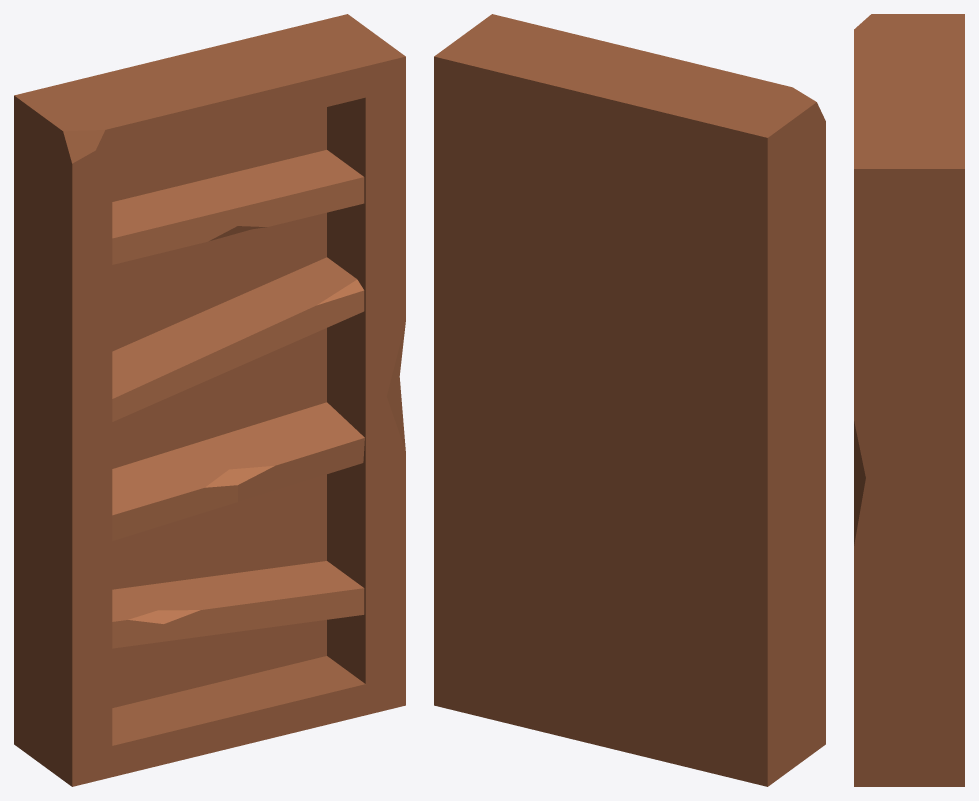
Rendered from bookshelf_broken.glb.
The picture shows the model from 3 angles, left to right: view 1: azimuth 30°, elevation 25°; view 2: azimuth 150°, elevation 25°; view 3: azimuth 270°, elevation 25°; orthographic projection. The views are drawn at different scales.
Parts seen in each view (by area): view 1: bookshelf_broken; view 2: bookshelf_broken; view 3: bookshelf_broken.
Boxes of the visible parts, <box> form: bookshelf_broken: <box>14,14,405,786</box>; bookshelf_broken: <box>434,14,825,786</box>; bookshelf_broken: <box>854,14,964,786</box>.
Size of the model in its own units: 0.4828 by 0.8972 by 0.1456.
1 material, 1 textured.
